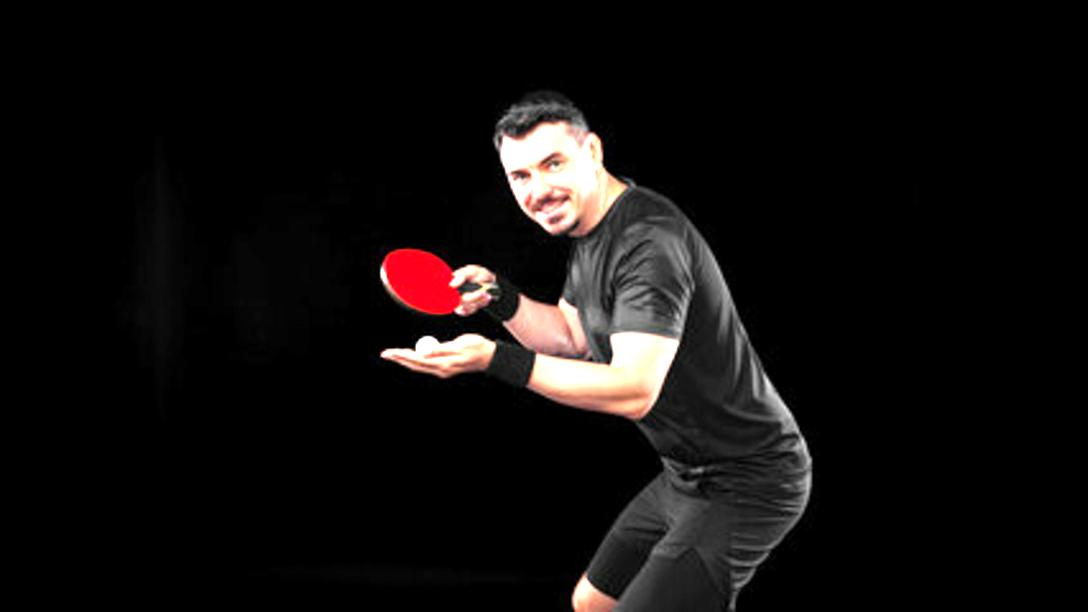Table-Tennis-Ball: (416, 336, 438, 352)
